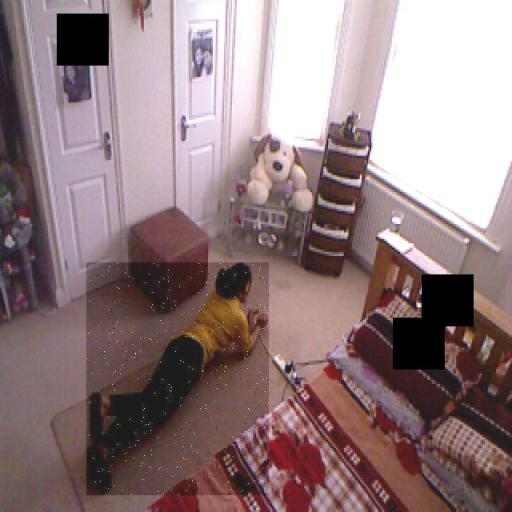Fall: (86, 263, 269, 496)
